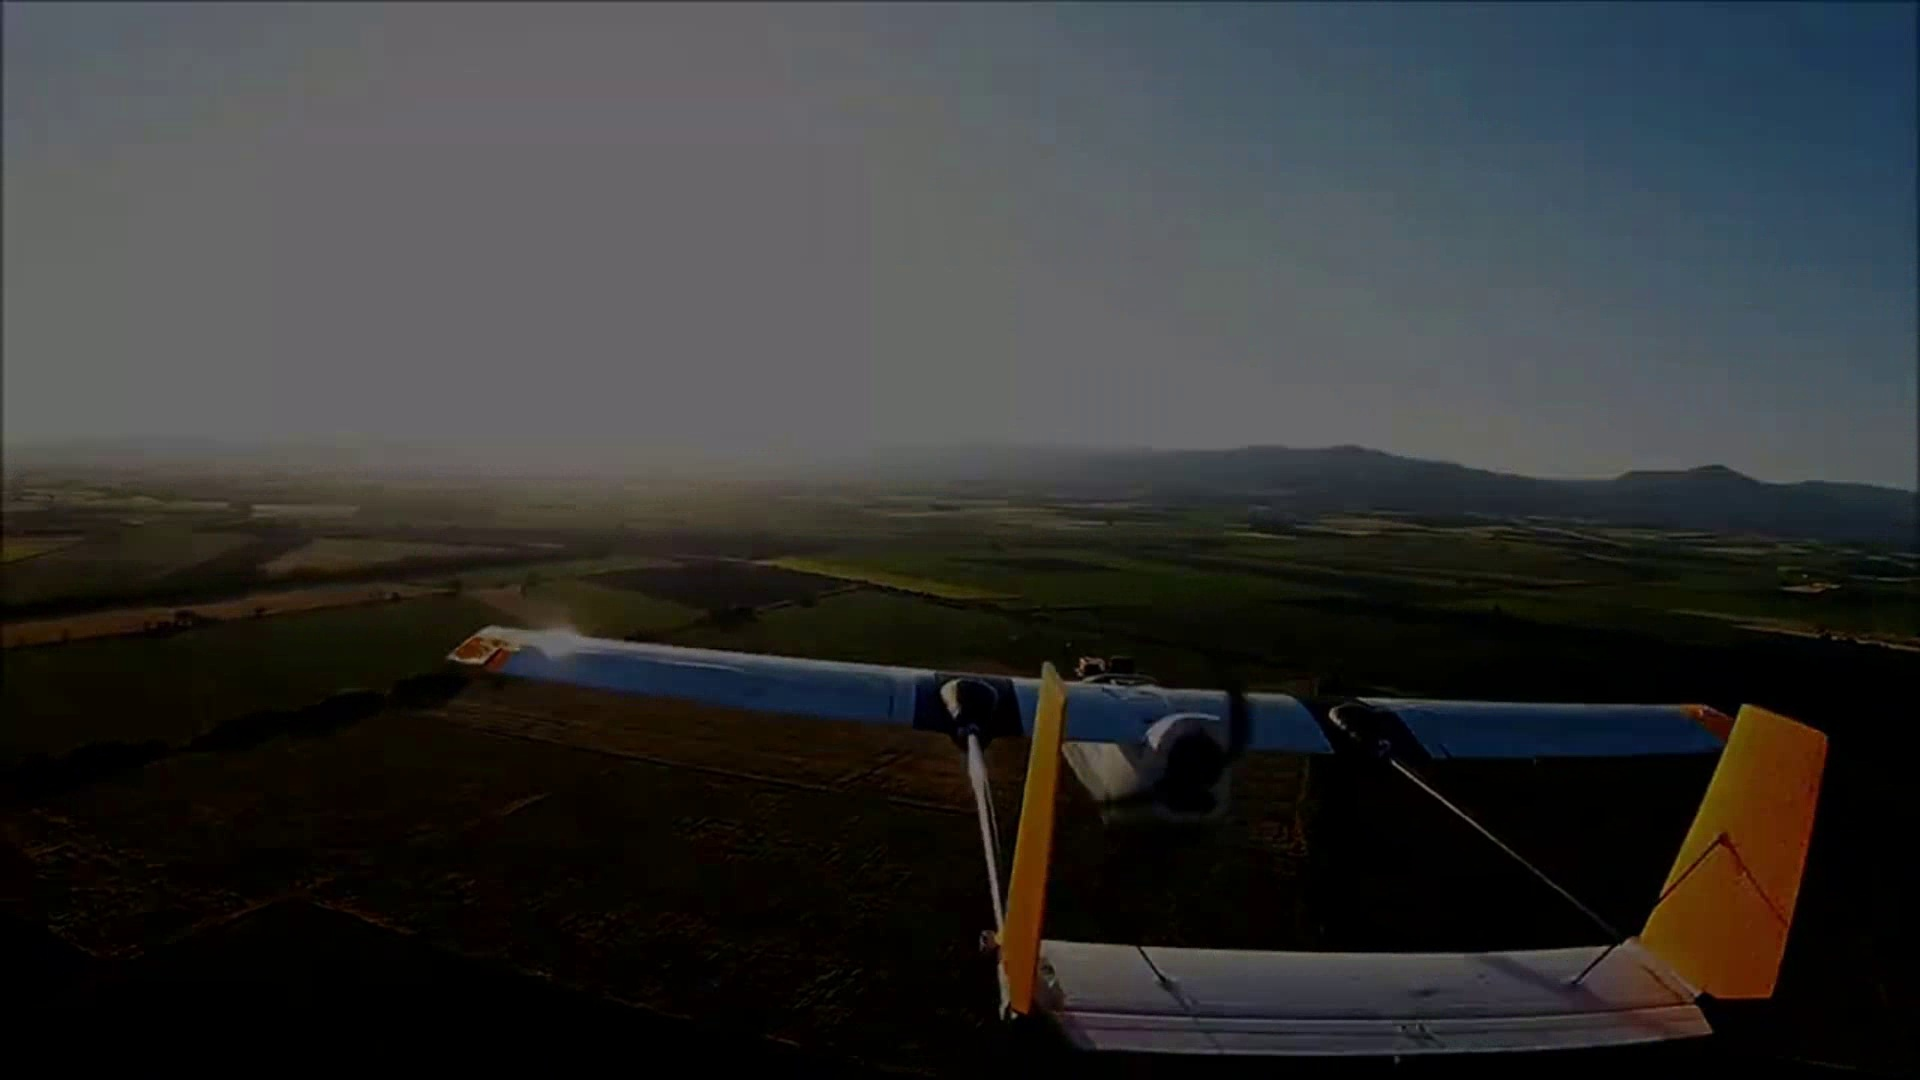airplane: (439, 626, 1853, 1052)
